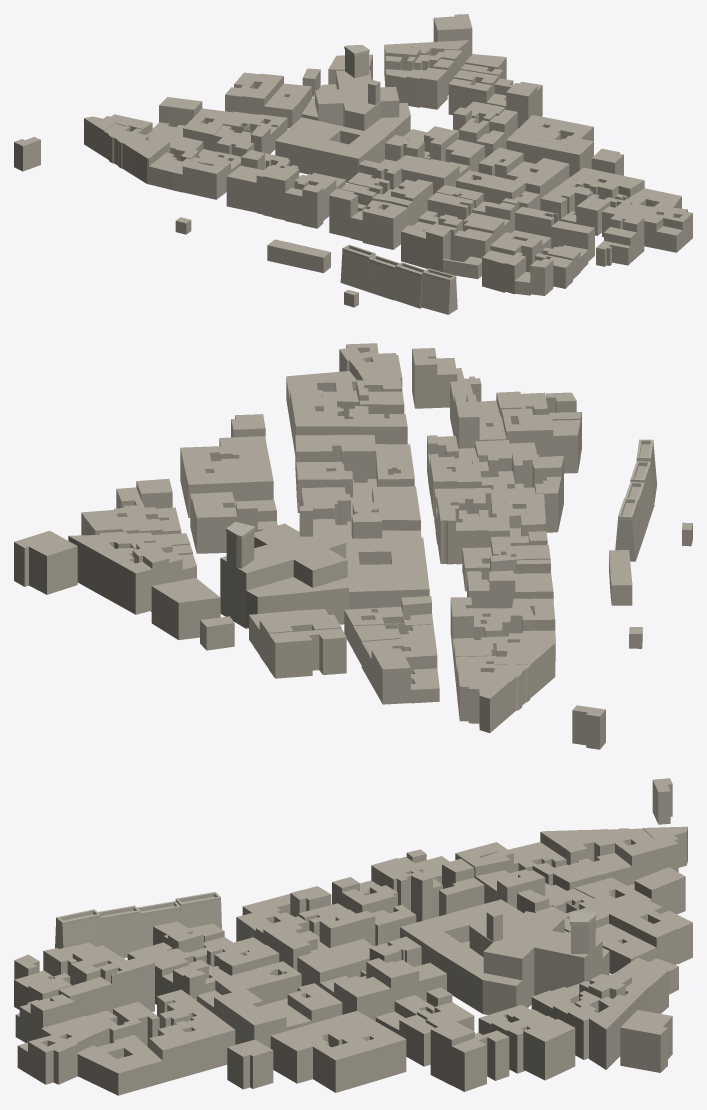
Rendered from senglea_57_25_collision.glb.
3 renders of one model, top to bottom at view 1: azimuth 30°, elevation 25°; view 2: azimuth 150°, elevation 25°; view 3: azimuth 270°, elevation 25°, orthographic. The views are drawn at different scales.
Parts seen in each view (by area): view 1: geometry_0; view 2: geometry_0; view 3: geometry_0.
Boxes of the visible parts, left/top/right/bottom form: geometry_0: left=14, top=14, right=692, bottom=314; geometry_0: left=14, top=343, right=692, bottom=749; geometry_0: left=14, top=778, right=692, bottom=1095.
Size of the model in its own units: 190 by 36.43 by 191.
